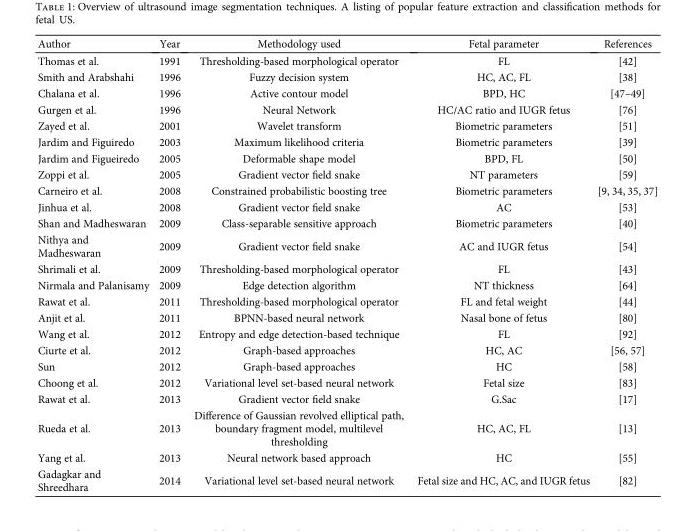table: (36, 36, 657, 492)
table column: (186, 36, 409, 492), (409, 36, 592, 492), (36, 36, 153, 492), (592, 36, 657, 492), (153, 36, 186, 492)
table column header: (36, 36, 657, 51)
table row: (36, 406, 657, 449), (36, 231, 657, 260), (36, 465, 657, 492), (36, 51, 657, 68), (36, 84, 657, 101), (36, 149, 657, 166), (36, 214, 657, 231), (36, 292, 657, 309), (36, 357, 657, 374), (36, 68, 657, 84), (36, 101, 657, 117), (36, 117, 657, 133), (36, 133, 657, 149), (36, 166, 657, 182), (36, 182, 657, 198), (36, 198, 657, 214), (36, 260, 657, 276), (36, 276, 657, 292), (36, 309, 657, 325), (36, 325, 657, 341), (36, 341, 657, 357), (36, 374, 657, 390), (36, 390, 657, 406), (36, 449, 657, 465), (36, 36, 657, 51)
